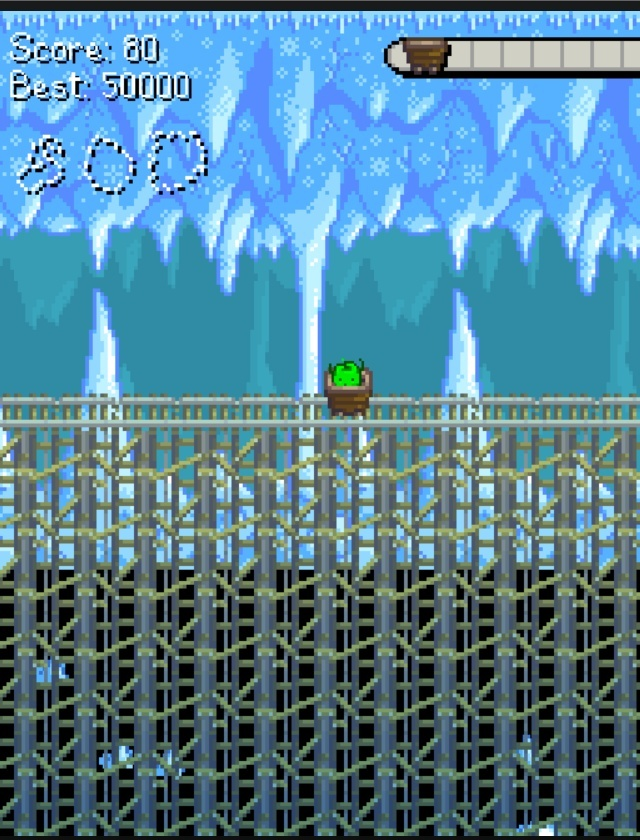minecart: (324, 361, 370, 415)
score: (120, 30, 162, 65)
tracks: (0, 384, 318, 431)
